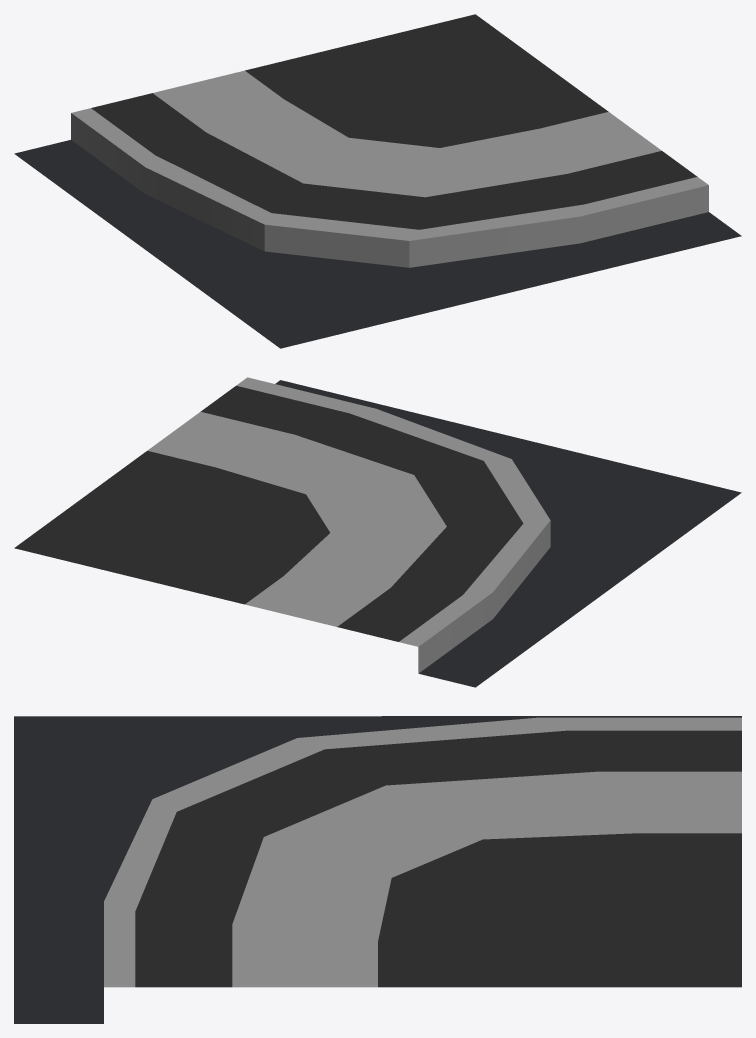
Rendered from Sidewalk_01_Corner_Out.FBX.
3 views of the same model, one above another, from view 1: azimuth 30°, elevation 25°; view 2: azimuth 150°, elevation 25°; view 3: azimuth 270°, elevation 25° (orthographic). The views are drawn at different scales.
Visible parts, largest first — view 1: Sidewalk_01_Corner_Out; view 2: Sidewalk_01_Corner_Out; view 3: Sidewalk_01_Corner_Out.
Part boxes in pixels (x1,y1,x2,y2): Sidewalk_01_Corner_Out: (14,14,741,348); Sidewalk_01_Corner_Out: (14,377,741,687); Sidewalk_01_Corner_Out: (14,716,741,1023).
Size of the model in its own units: 180 by 10 by 180.
